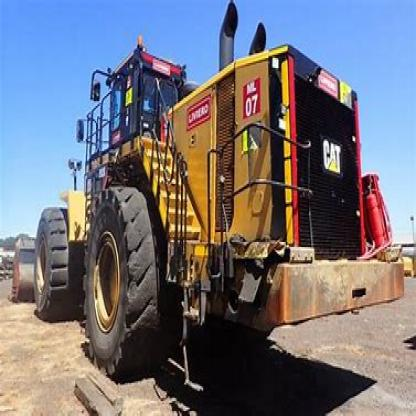bull_dozer/loader/grader: (6, 10, 412, 389)
